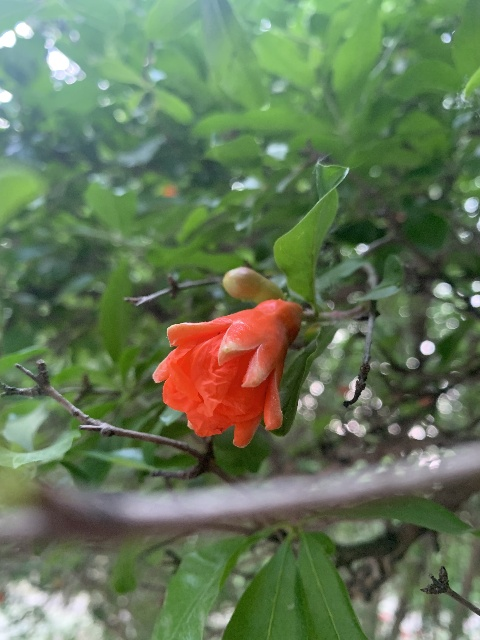bud: (222, 266, 278, 302)
flower: (153, 298, 301, 446)
